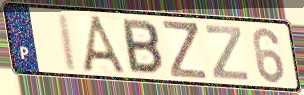6: (250, 25, 287, 85)
A: (81, 14, 132, 78)
B: (121, 17, 165, 77)
I: (56, 12, 80, 74)
Z: (160, 19, 209, 81), (204, 24, 251, 83)
